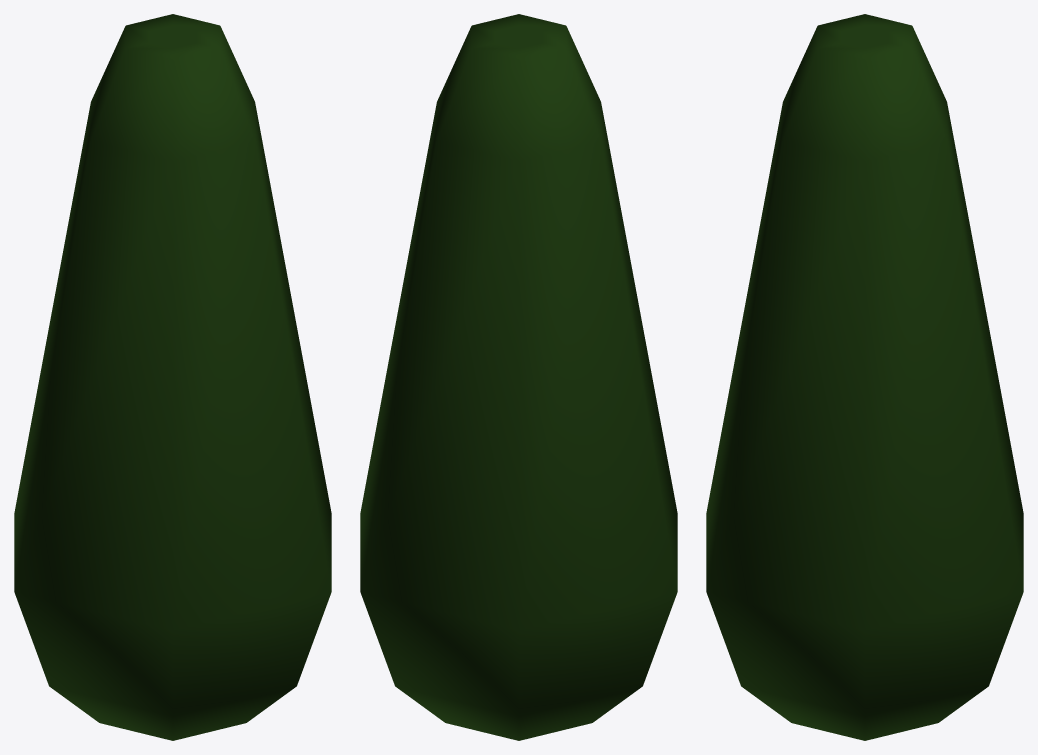
The model's file is PropsTree1.fbx.
3 views of the same model, side by side, from view 1: azimuth 30°, elevation 25°; view 2: azimuth 150°, elevation 25°; view 3: azimuth 270°, elevation 25° (orthographic).
Parts seen in each view (by area): view 1: PropsTree1; view 2: PropsTree1; view 3: PropsTree1.
Boxes of the visible parts, x1,y1,x2,y2 form: PropsTree1: [14, 14, 331, 740]; PropsTree1: [360, 14, 677, 740]; PropsTree1: [706, 14, 1023, 740].
Bounding box in the file's own units: 1.84 × 3.7 × 1.59.
